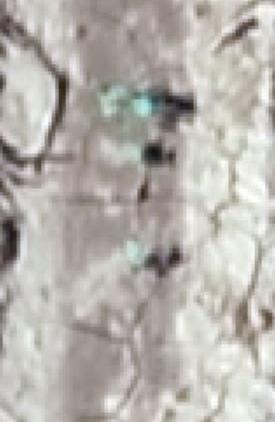cotton: (135, 94, 158, 115), (130, 249, 143, 269), (129, 146, 142, 160)
